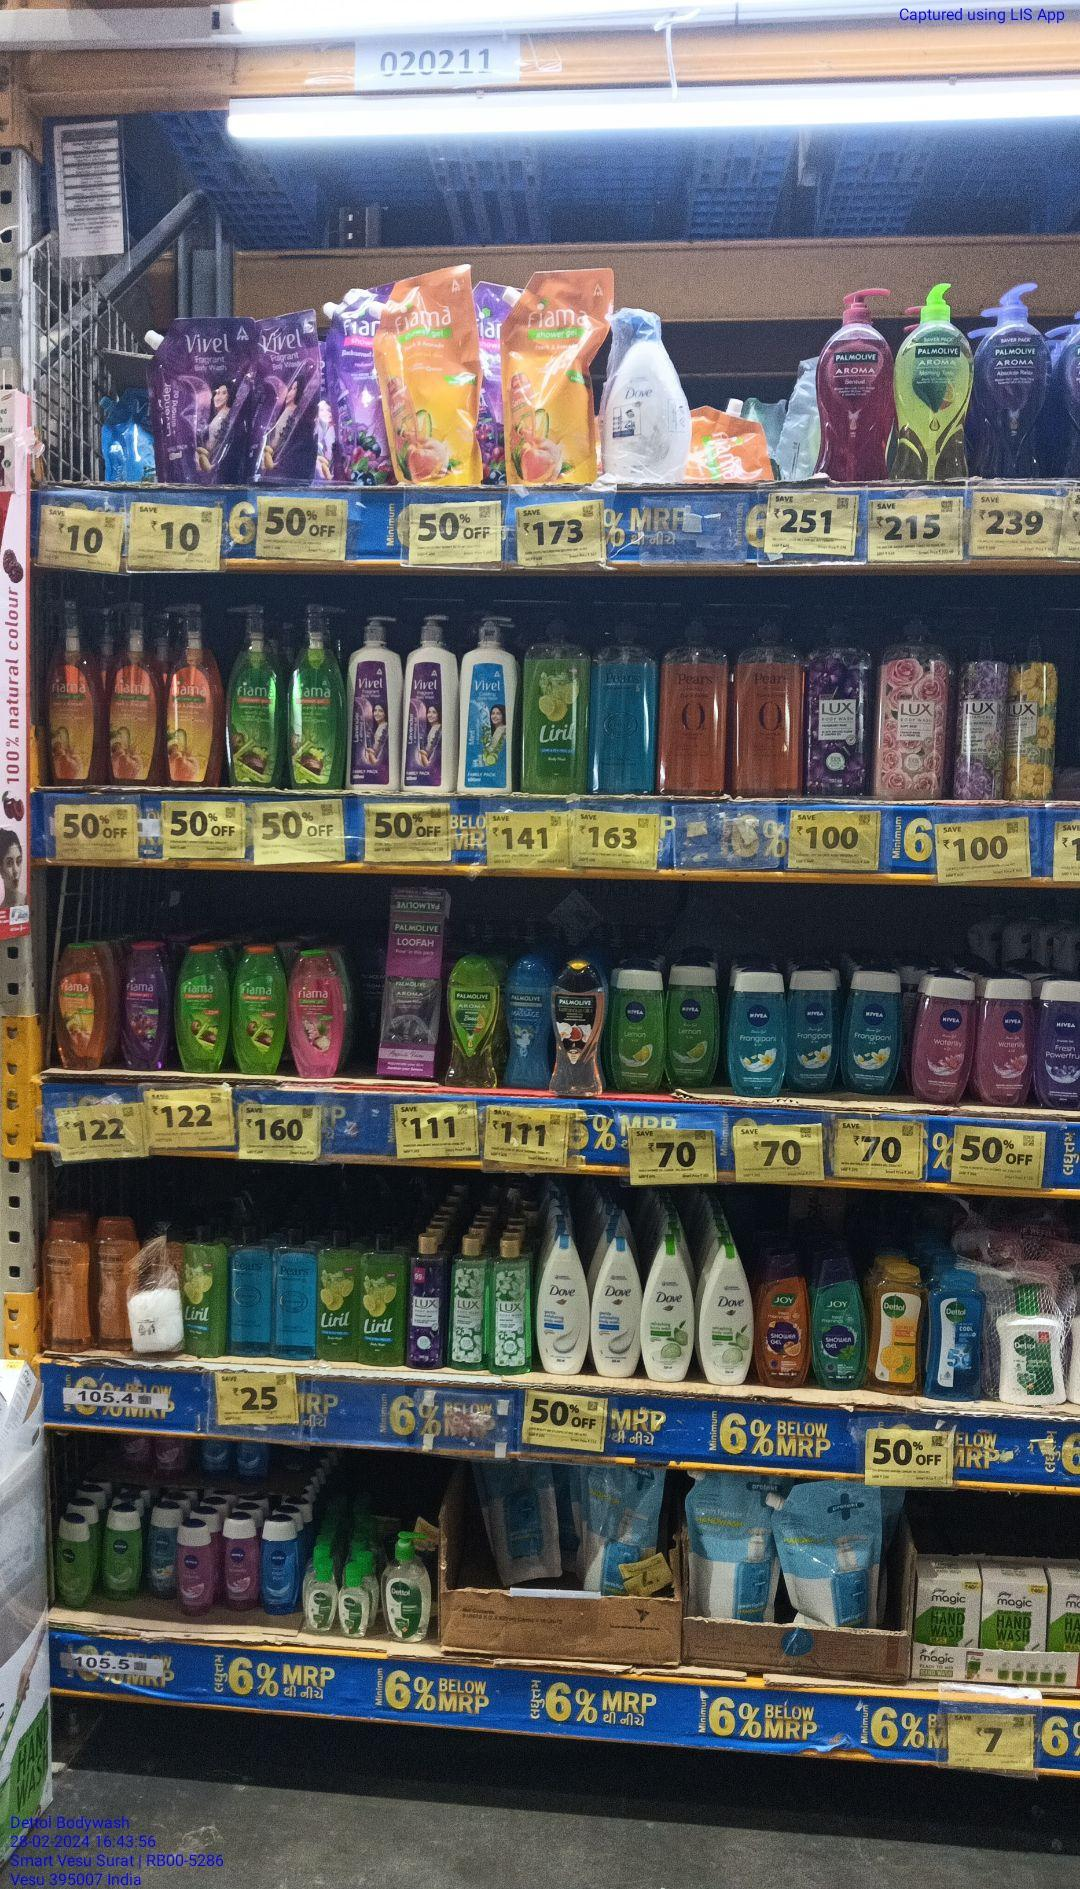Dettol_Bodywash_Cool: (932, 1271, 985, 1400)
Dettol_Bodywash_Refresh: (870, 1262, 923, 1396)
Dove_Gentle_Exfoliating_Body_Wash_250ML: (591, 1236, 640, 1379), (540, 1231, 587, 1379)
Dove_Refreshing_Body_Wash_250ML: (644, 1238, 694, 1383), (702, 1244, 753, 1388)
Fiama_Shower_Gel_Lemongrass_and_Jojoba_250ML: (232, 941, 286, 1078), (178, 941, 226, 1076)
Fiama_Shower_Gel_Patchouli_and_Macadamia_250ML: (291, 942, 347, 1079)
Fiama_Shower_Gel_Peach_and_Avocado_250ML: (58, 943, 106, 1073)
Get_Real_Shower_Gel_Moisturising_Glycerin_300ML: (42, 1212, 86, 1354), (90, 1214, 134, 1349)
Joy_Shower_Gel_Mandarin_and_Lemongrass_250ML: (758, 1249, 810, 1390)
Joy_Shower_Gel_Mint_and_Eucalyptus_250ML: (814, 1252, 867, 1393)
Liril_Lime_and_Tea_Tree_Oil_Body_Wash_250ML: (360, 1230, 405, 1369), (180, 1222, 222, 1353), (319, 1229, 357, 1366)
Lux_Black_Orchid_Scent_and_Juniper_Oil_Body_Wash_245ML: (409, 1231, 445, 1371)
Lux_Body_Wash_Skin_Detox_Freesia_Scent_and_Alove_Vera_245ML: (491, 1236, 531, 1378), (453, 1233, 485, 1371)
Nivea_Shower_Gel_Frangipani_and_Oil_250ML: (731, 964, 789, 1095), (845, 965, 902, 1095), (792, 964, 839, 1095)
Nivea_Shower_Gel_Fresh_Powerfruit_250ML: (1038, 978, 1080, 1112)
Nivea_Shower_Gel_Lemon_and_Oil_250ML: (613, 963, 667, 1094), (669, 960, 717, 1090)
Nivea_Shower_Gel_Waterlily_and_Oil_250ML: (916, 970, 972, 1107), (977, 976, 1032, 1108)
Palmolive_Aroma_Morning_Tonic_Shower_Gel_250ML: (447, 952, 498, 1098)
Palmolive_Luminous_Oils_With_White_Orchid_Shower_Gel_250ML: (552, 957, 606, 1096)
Pears_Pure_Glycerin_and_Mint_Extracts_Body_Wash_250ML: (274, 1225, 315, 1360), (230, 1226, 269, 1358)
